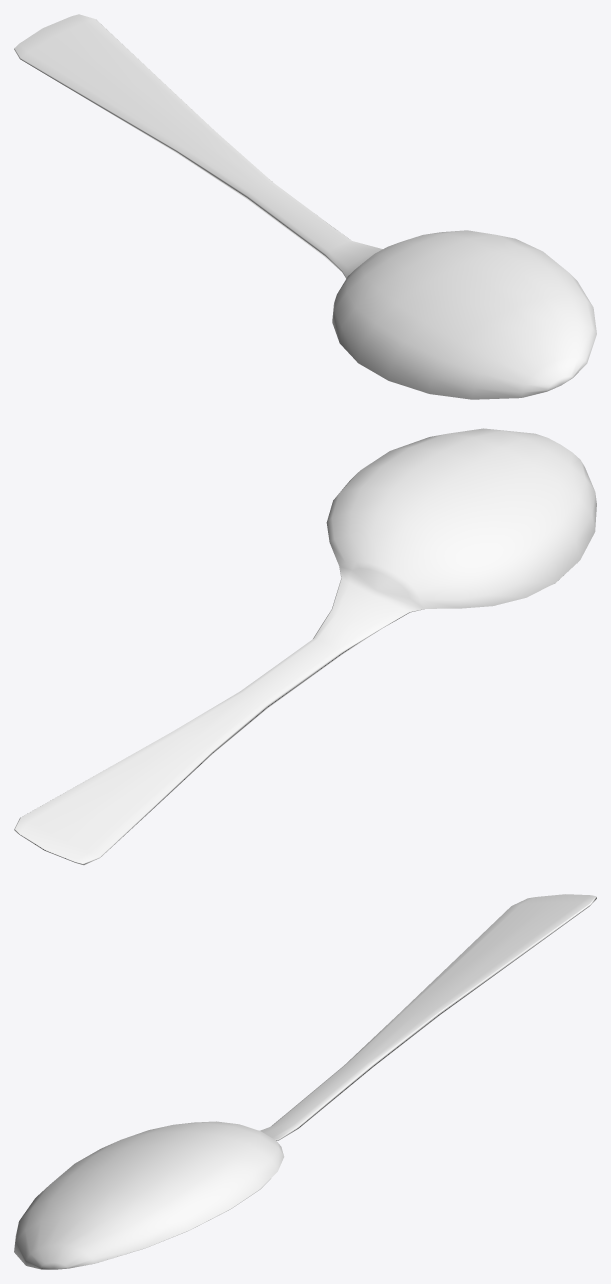
Rendered from Spoon.glb.
The picture shows the model from 3 angles, top to bottom: view 1: azimuth 30°, elevation 25°; view 2: azimuth 150°, elevation 25°; view 3: azimuth 330°, elevation 25°; orthographic projection. The views are drawn at different scales.
Visible parts, largest first — view 1: Spoon; view 2: Spoon; view 3: Spoon.
Boxes of the visible parts, x1,y1,x2,y2 form: Spoon: (14,14,596,399); Spoon: (14,428,596,865); Spoon: (14,894,596,1269).
Bounding box in the file's own units: 0.4612 × 0.1776 × 2.06.
Materials: 1 (1 with a texture image).
